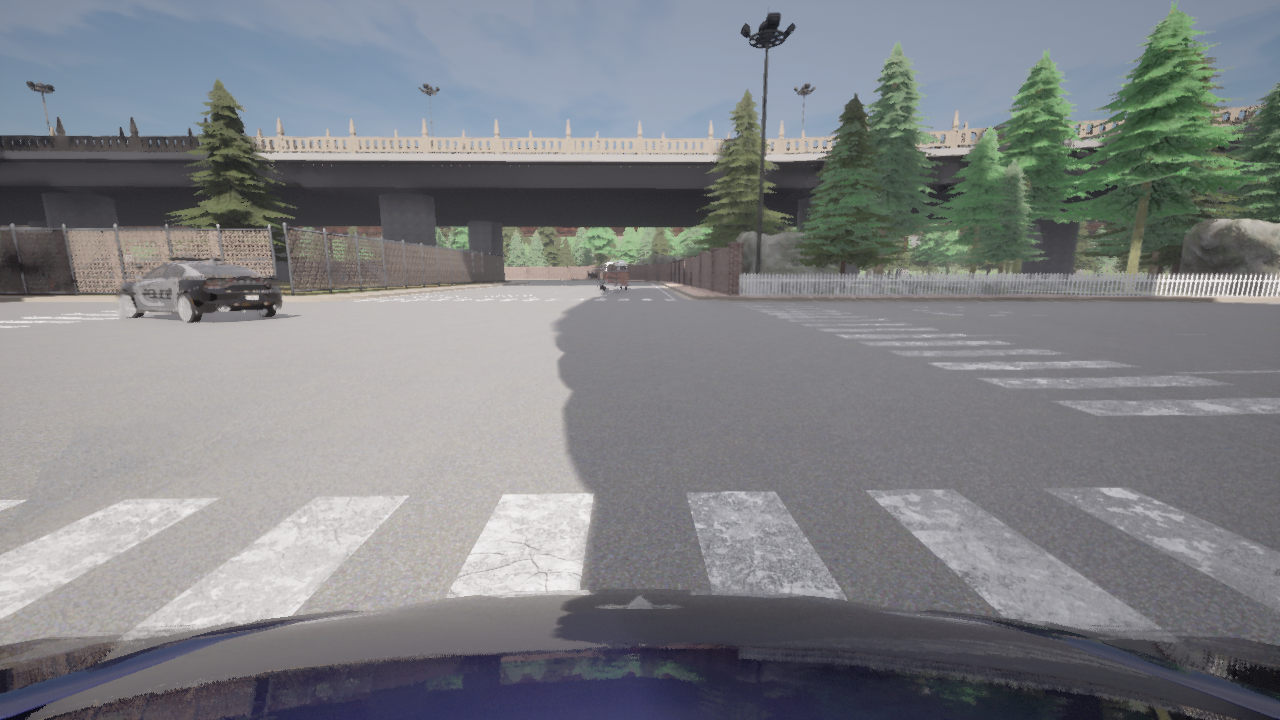cyclist: (0, 588, 1279, 719), (116, 255, 283, 323), (596, 261, 629, 290), (586, 268, 598, 280)
